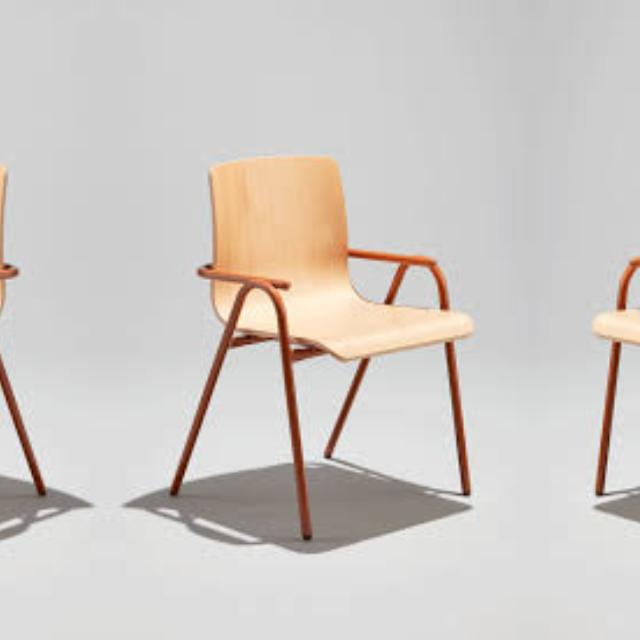obstacle: (172, 120, 506, 590), (559, 119, 640, 590), (0, 119, 42, 590)
